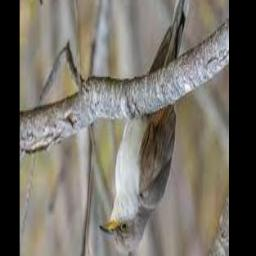Cuckoo: (98, 0, 196, 253)
